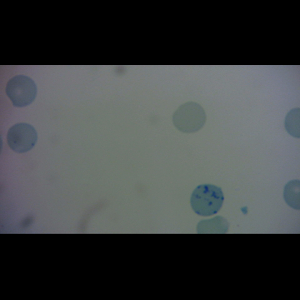aggregate reticulocyte: (190, 183, 225, 218)
erythrocyte: (171, 101, 208, 135), (5, 74, 38, 109)
punctate reticulocyte: (5, 122, 39, 154)
